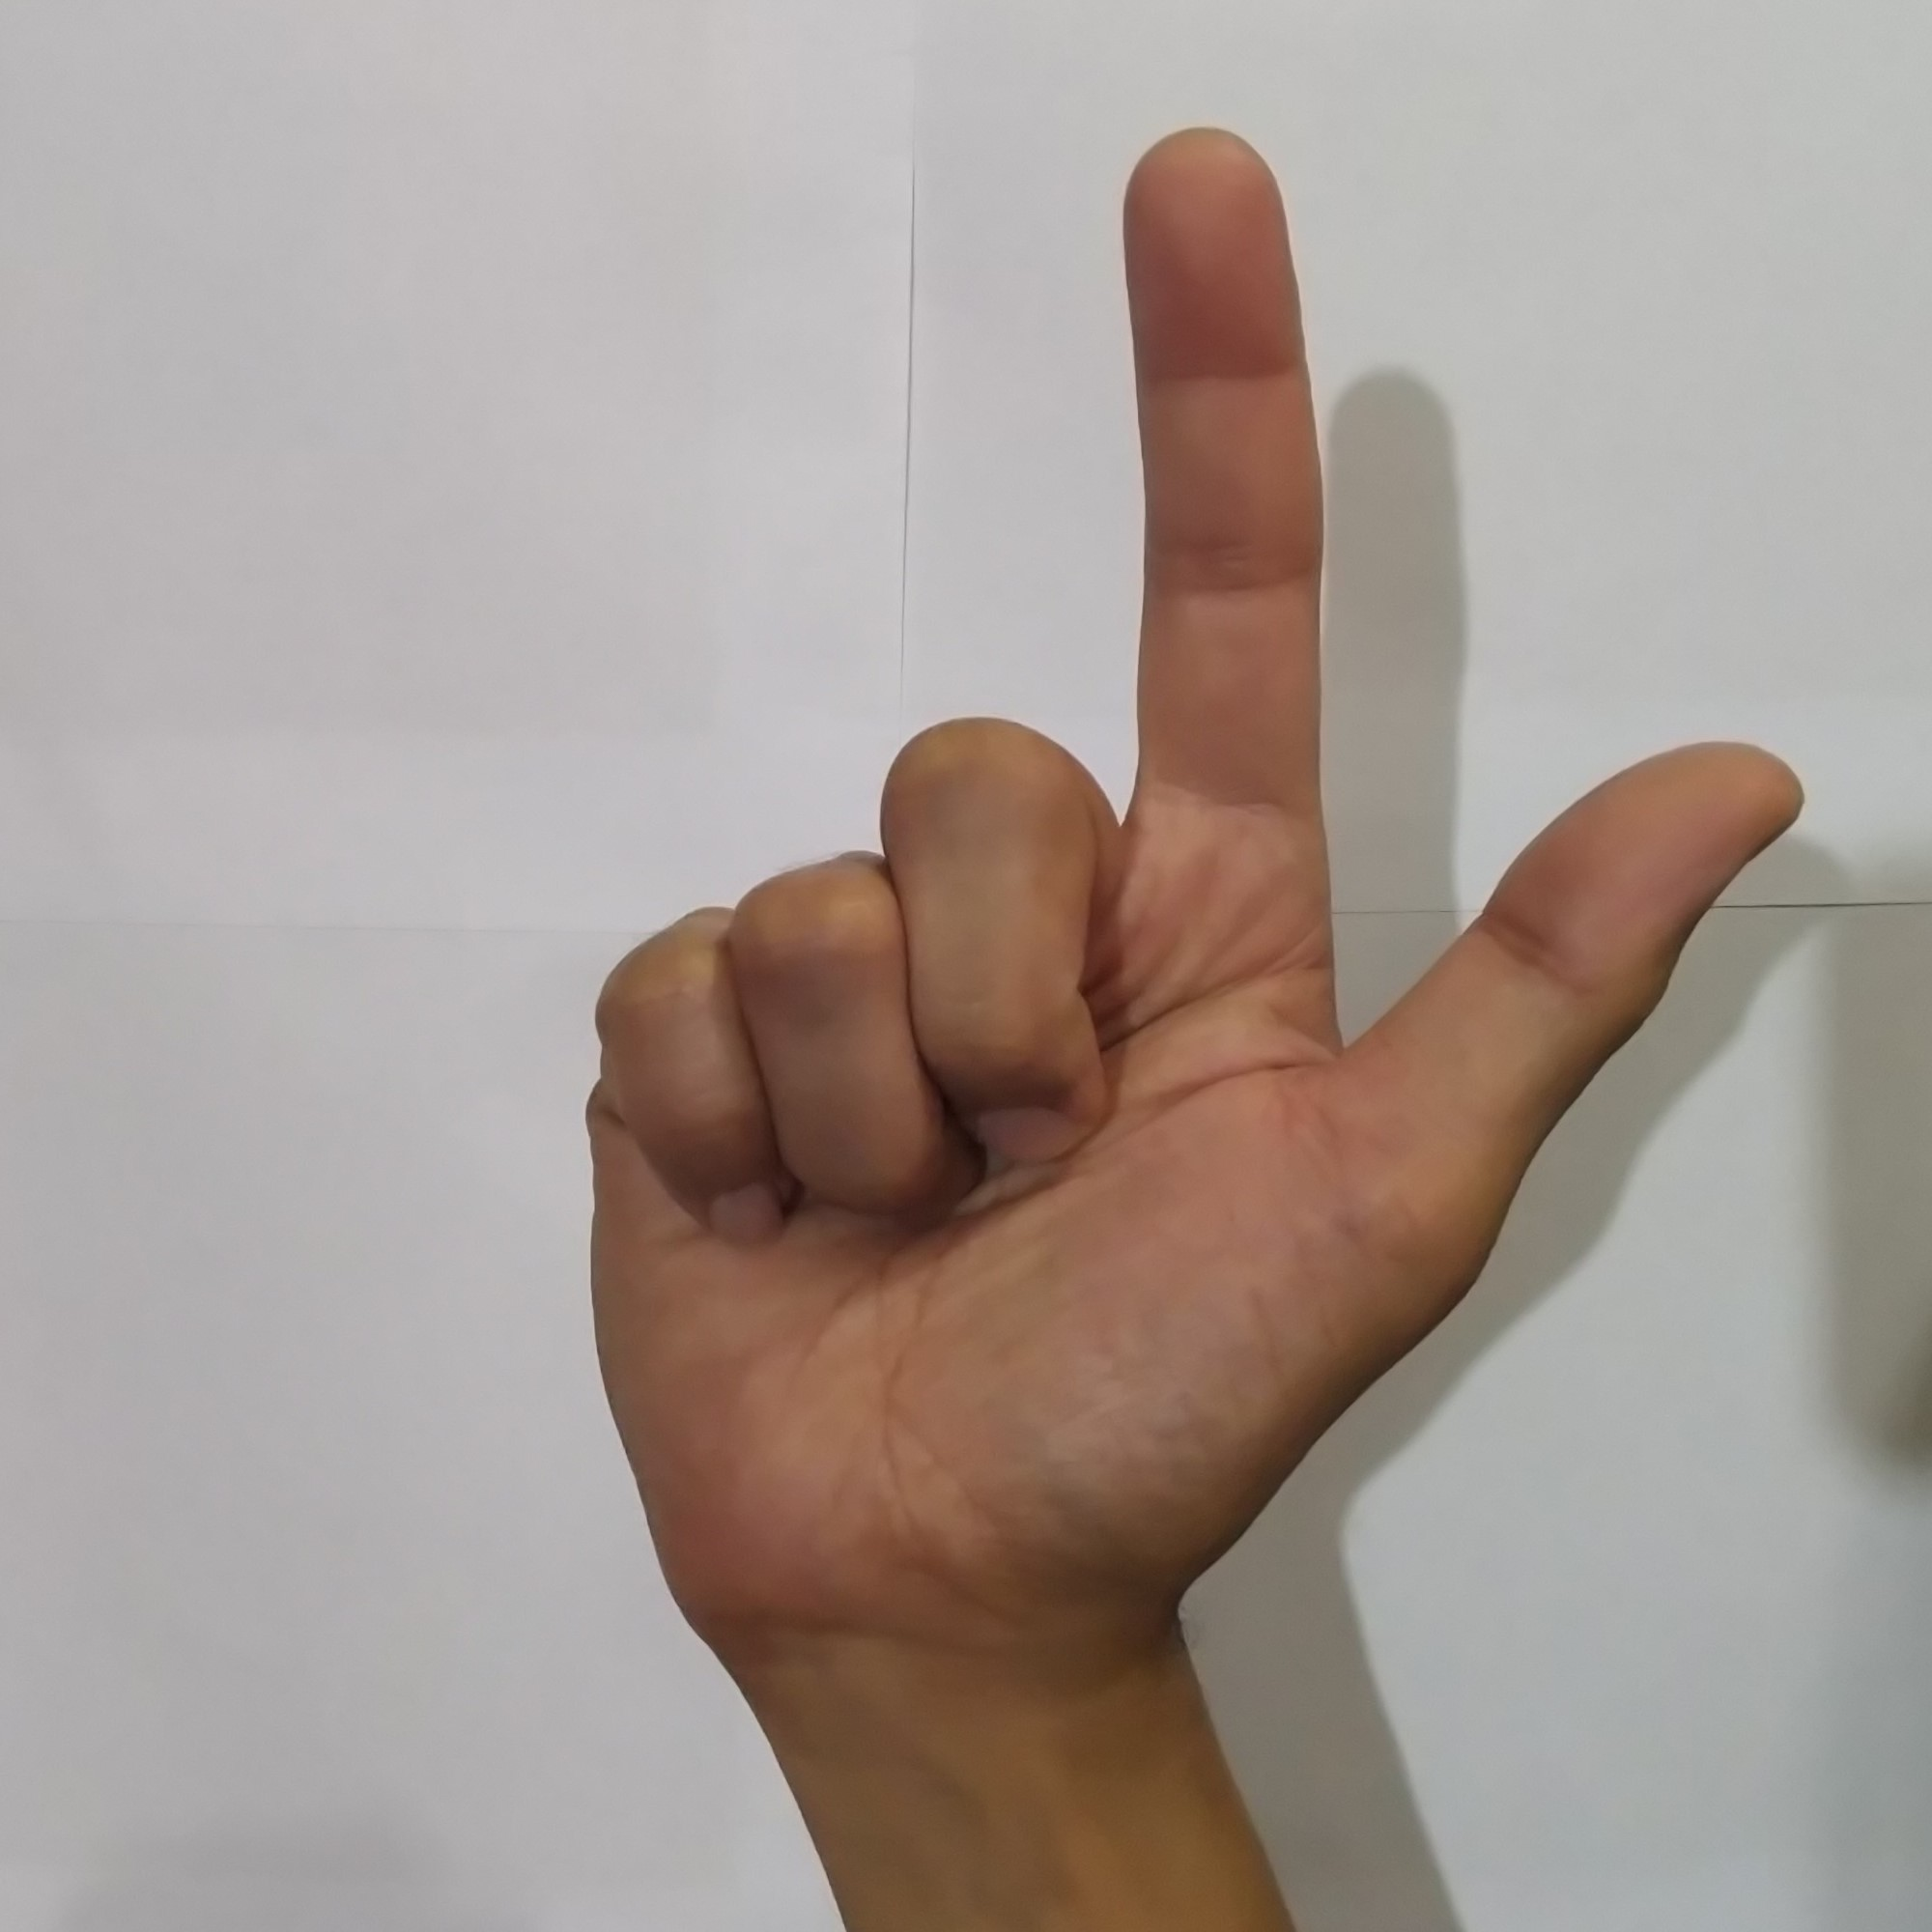L: (563, 104, 1824, 1626)
